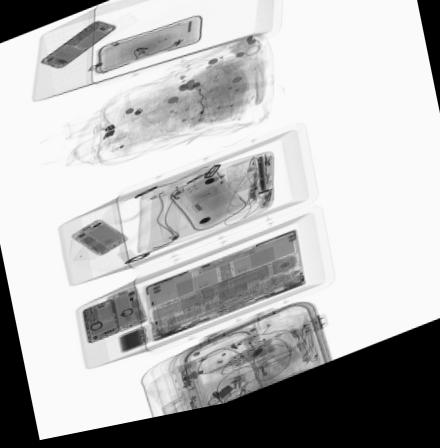Lighter: (260, 166, 271, 191)
